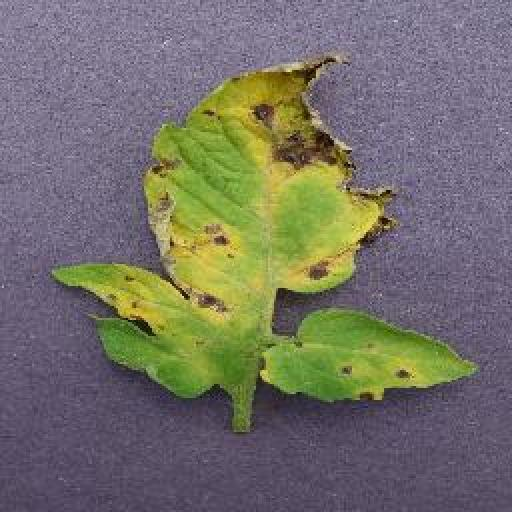Septoria: (56, 55, 486, 404)
